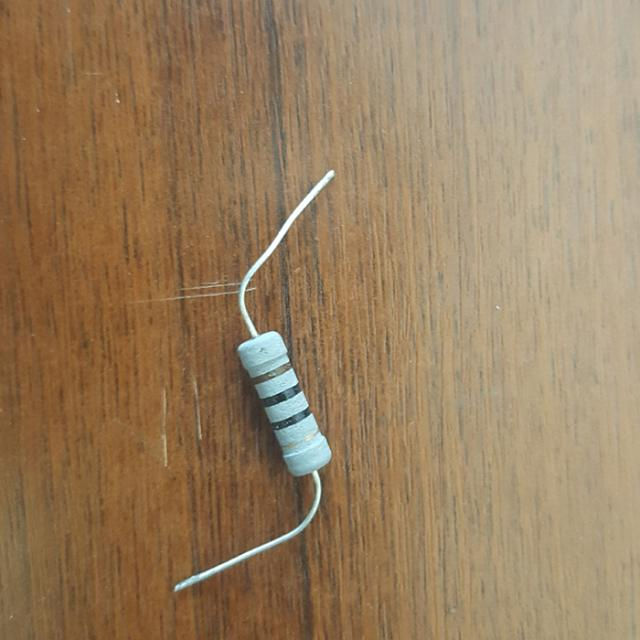black: (271, 406, 311, 432), (261, 382, 299, 406)
brown: (251, 361, 289, 382)
gold: (281, 431, 320, 449)
resistor: (213, 312, 353, 495)
